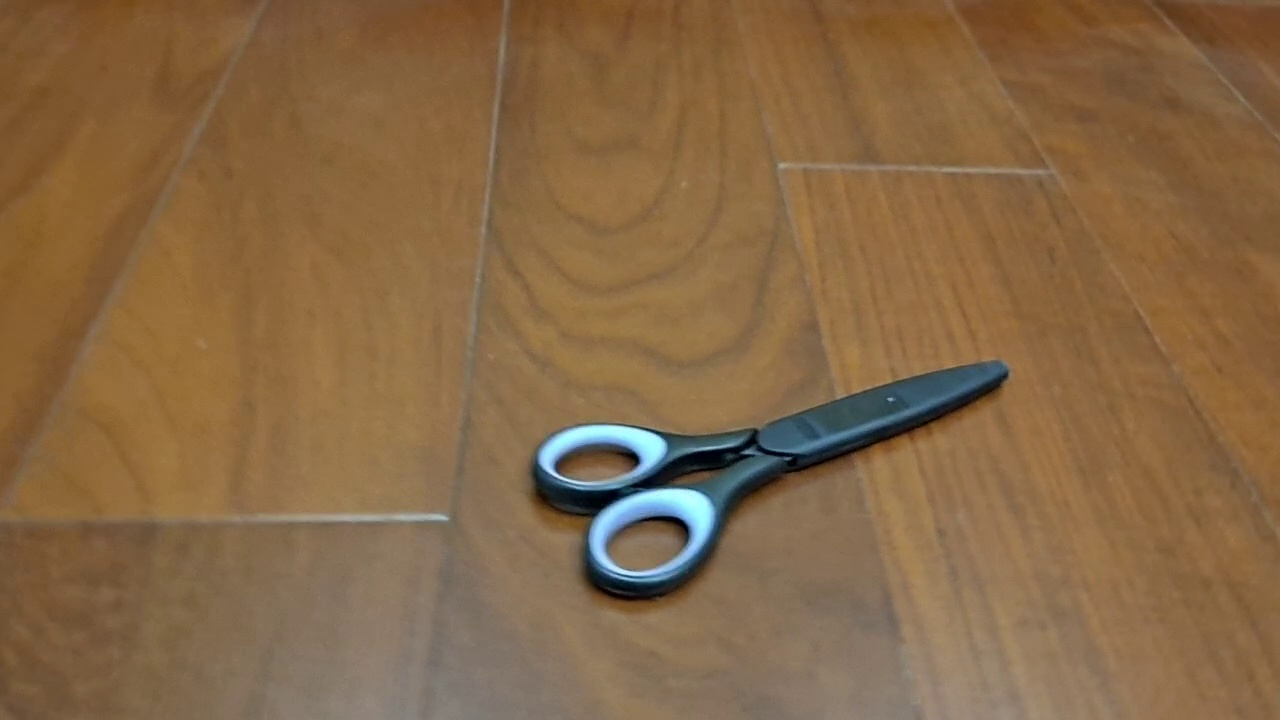scissors: (528, 358, 1011, 602)
